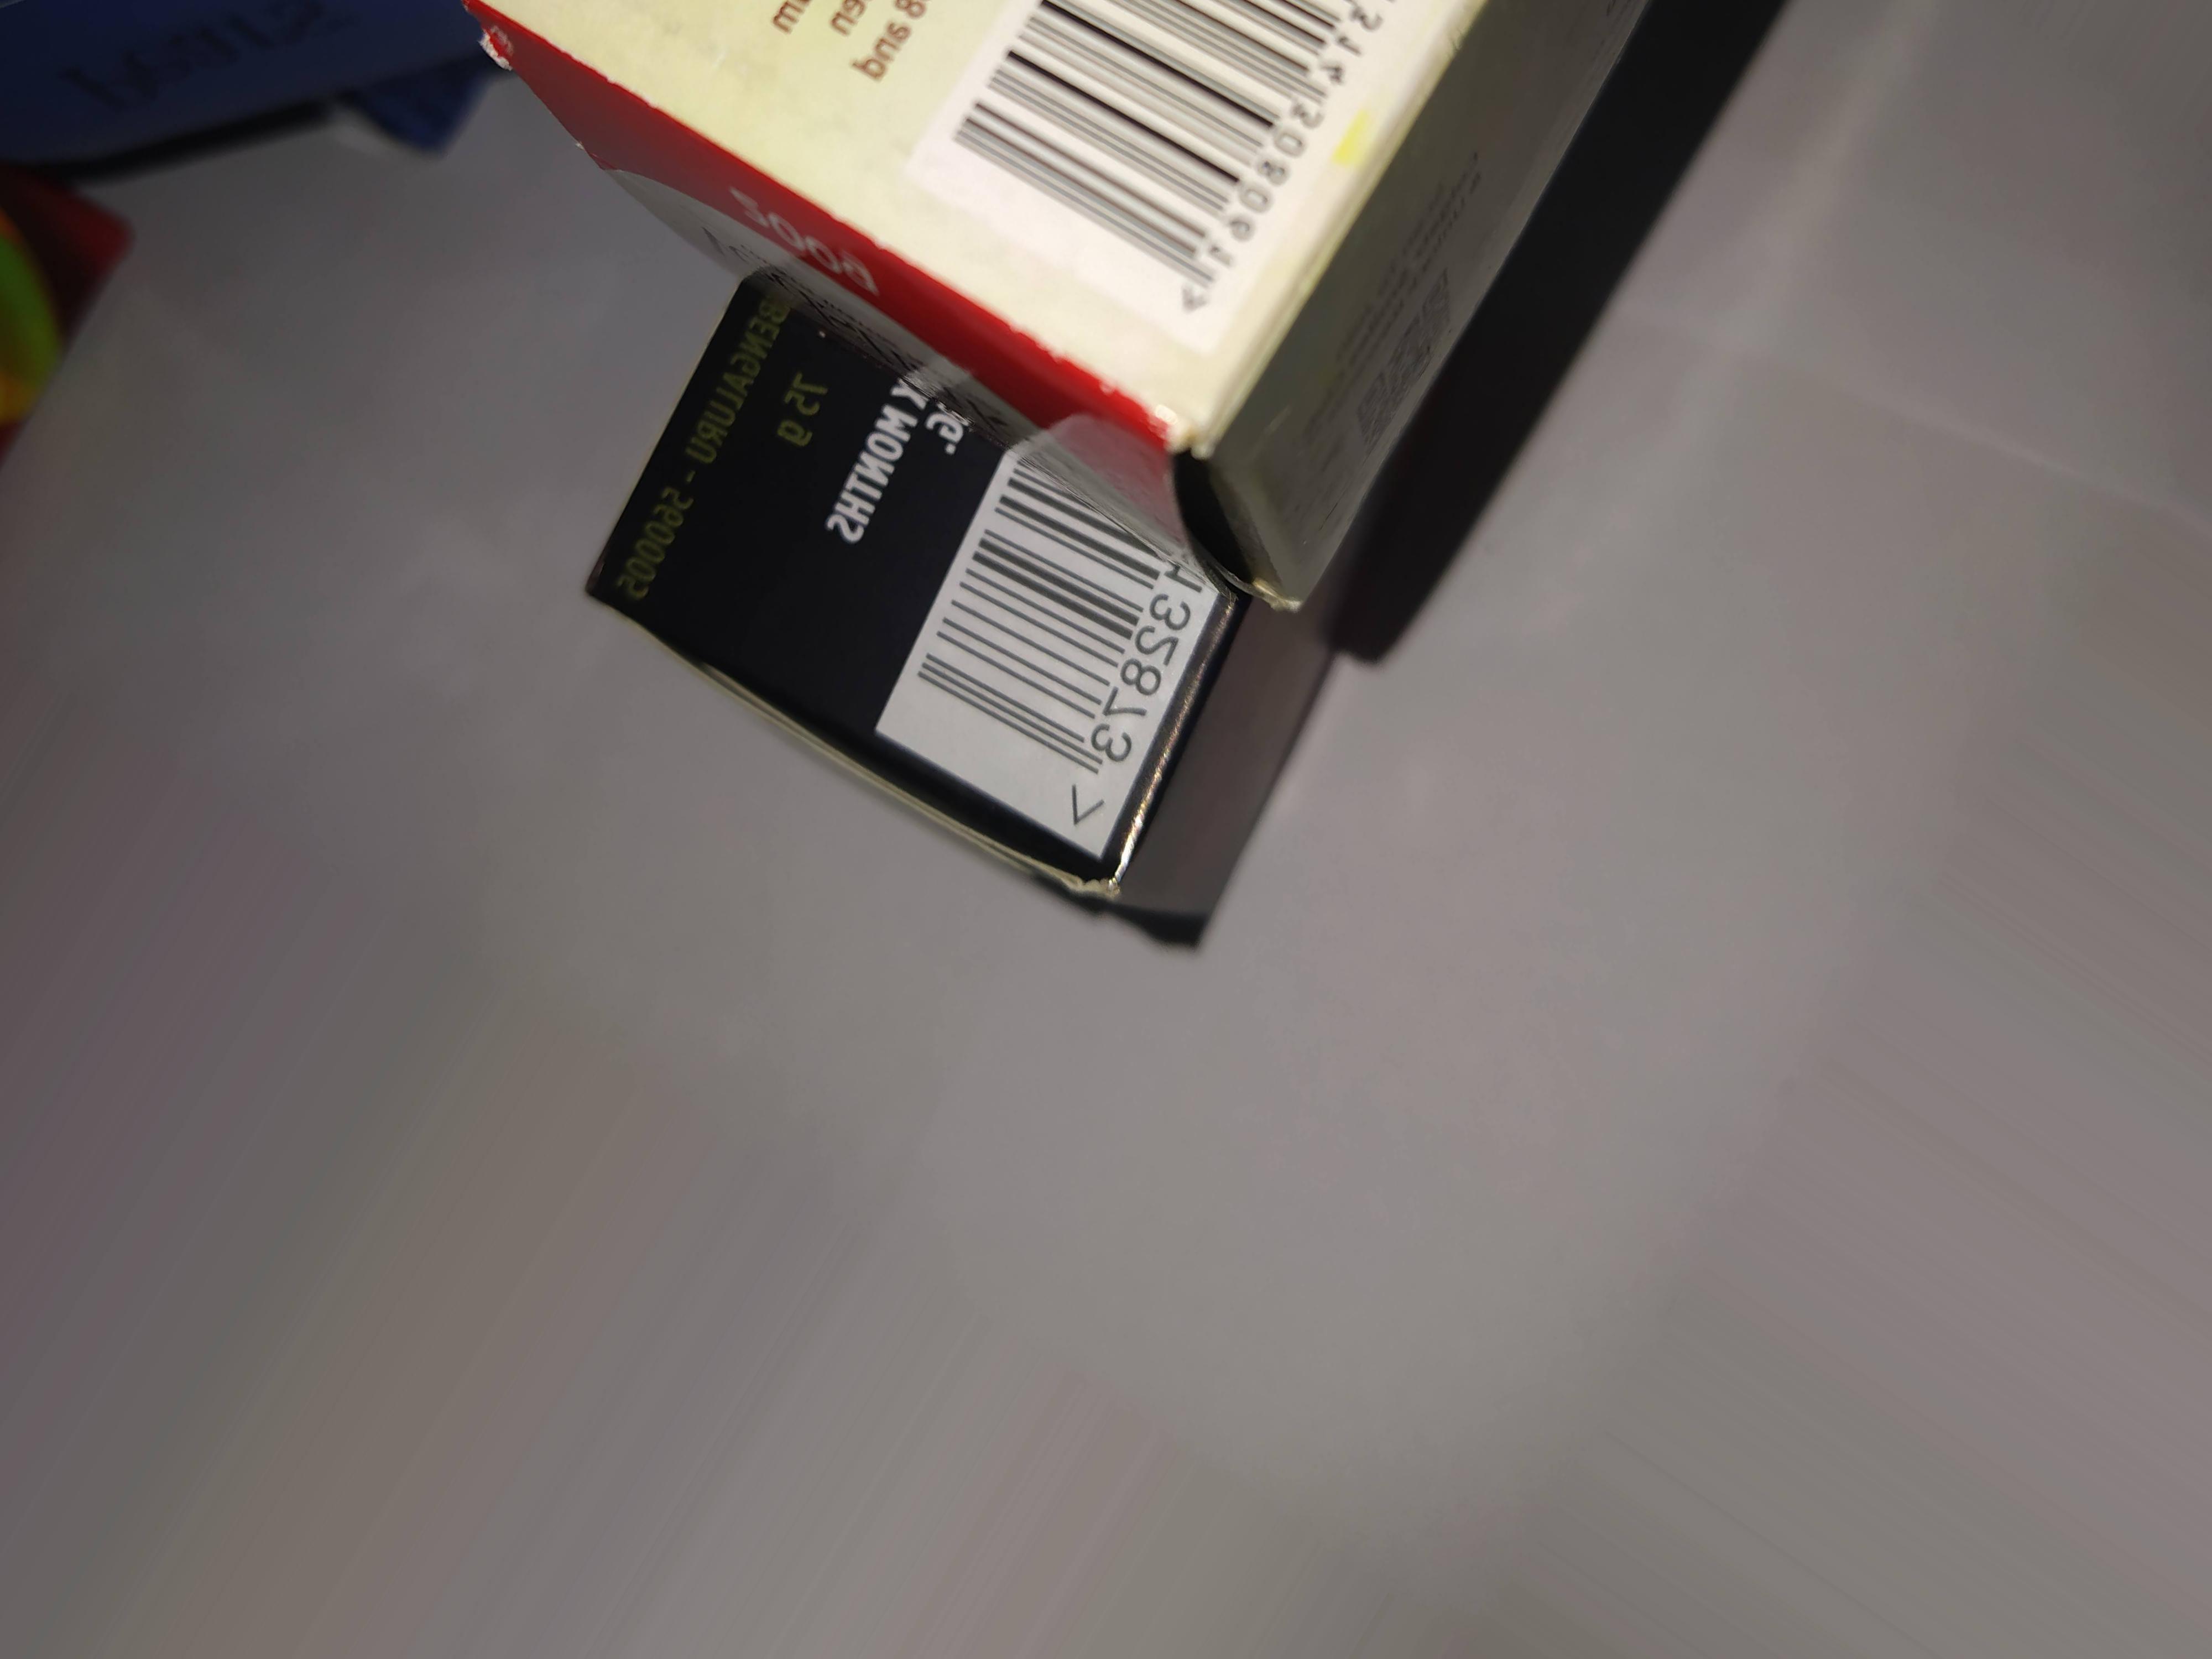Bar_code: (899, 399, 1251, 882)
